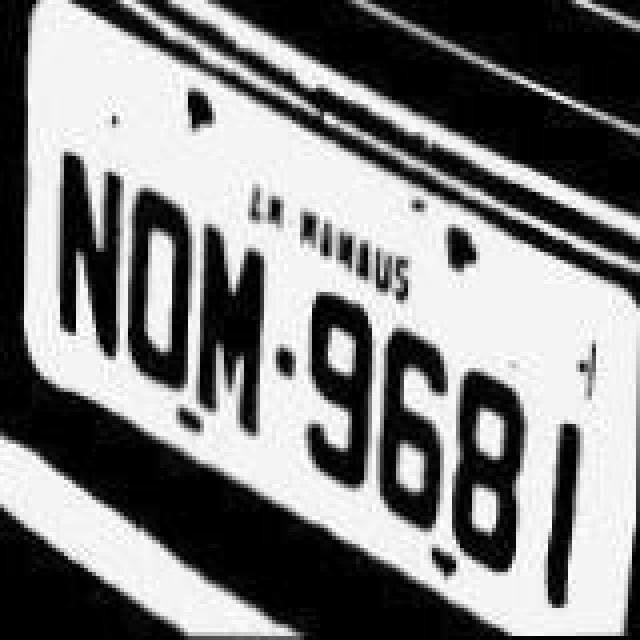1: (520, 398, 592, 626)
6: (370, 312, 458, 544)
8: (448, 362, 532, 582)
9: (298, 286, 386, 510)
M: (182, 216, 266, 448)
N: (40, 152, 128, 376)
O: (120, 192, 200, 412)
